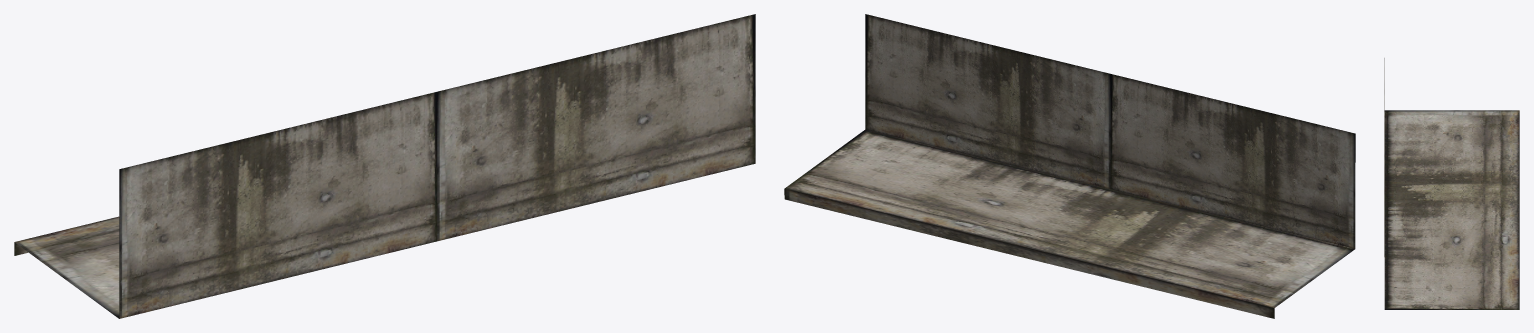
The model's file is Trottoir_06.fbx.
The picture shows the model from 3 angles, left to right: view 1: azimuth 30°, elevation 25°; view 2: azimuth 150°, elevation 25°; view 3: azimuth 270°, elevation 25°; orthographic projection. The views are drawn at different scales.
Parts seen in each view (by area): view 1: Trottoir_06; view 2: Trottoir_06; view 3: Trottoir_06.
Part boxes in pixels (x1=…): Trottoir_06: x1=14, y1=14, x2=755, y2=318; Trottoir_06: x1=784, y1=14, x2=1355, y2=318; Trottoir_06: x1=1384, y1=58, x2=1519, y2=309.
Size of the model in its own units: 700 by 172 by 200.
